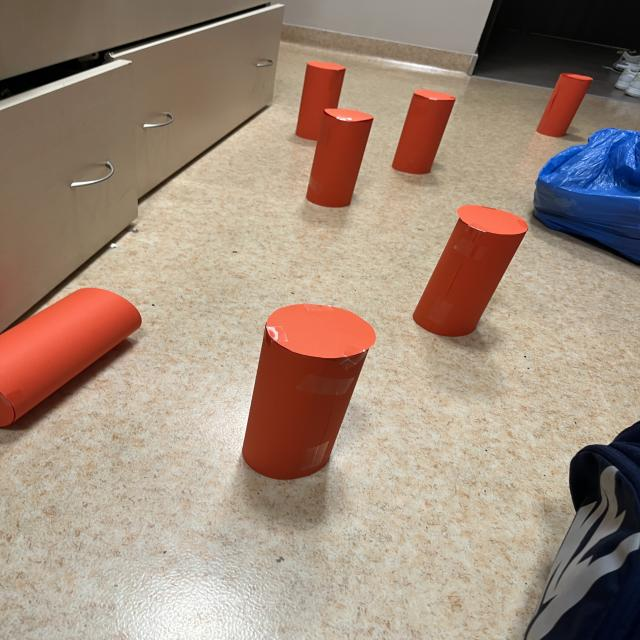przeszkoda: (242, 304, 375, 479), (0, 288, 141, 426), (413, 206, 527, 336), (306, 100, 373, 207), (392, 90, 455, 174), (295, 62, 345, 140), (537, 73, 591, 136)
